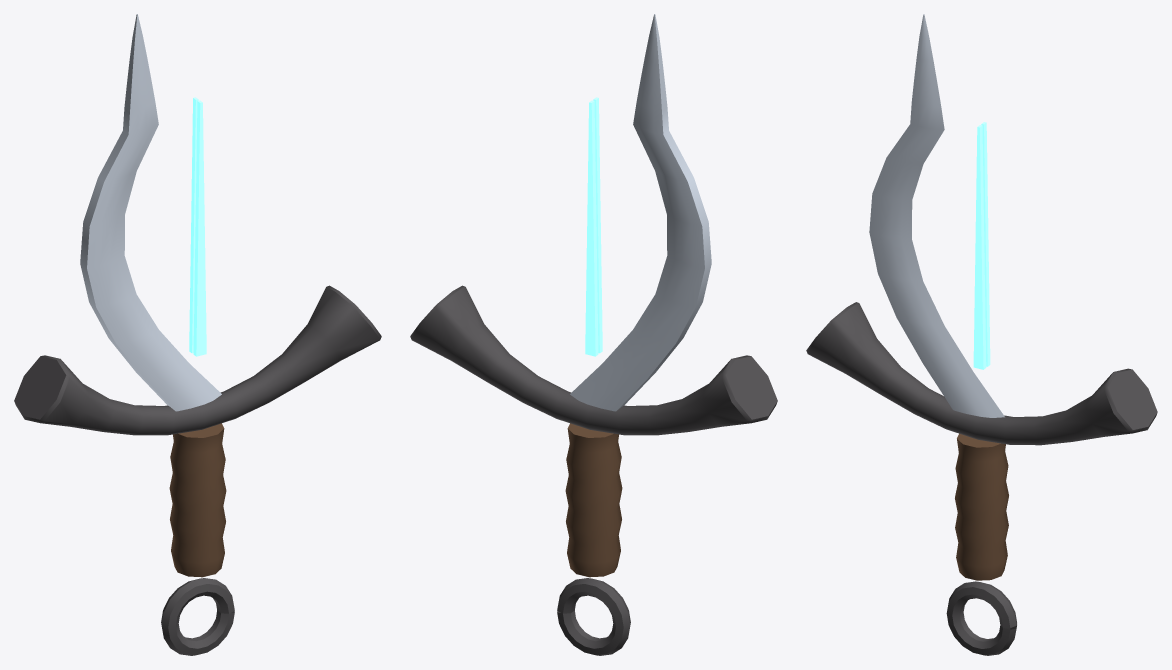
Rendered from depth_keelhook_knife.glb.
3 views of the same model, side by side, from view 1: azimuth 30°, elevation 25°; view 2: azimuth 150°, elevation 25°; view 3: azimuth 330°, elevation 25° (orthographic). The views are drawn at different scales.
Parts seen in each view (by area): view 1: depth_keelhook_knife; view 2: depth_keelhook_knife; view 3: depth_keelhook_knife.
Boxes of the visible parts, x1,y1,x2,y2 form: depth_keelhook_knife: [14, 14, 381, 655]; depth_keelhook_knife: [410, 14, 777, 655]; depth_keelhook_knife: [806, 14, 1157, 655].
Bounding box in the file's own units: 0.221 × 0.3967 × 0.0389.
